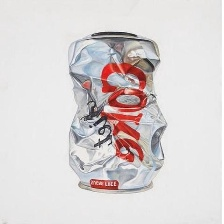can: (65, 31, 169, 195)
